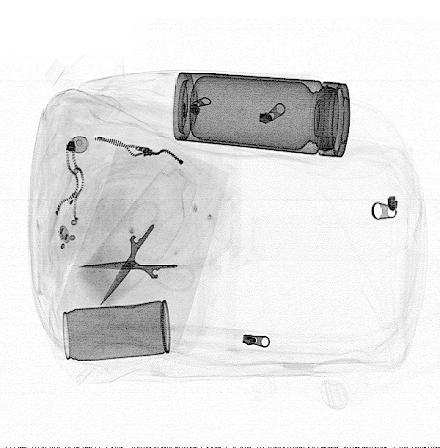Scissors: (76, 199, 196, 307)
